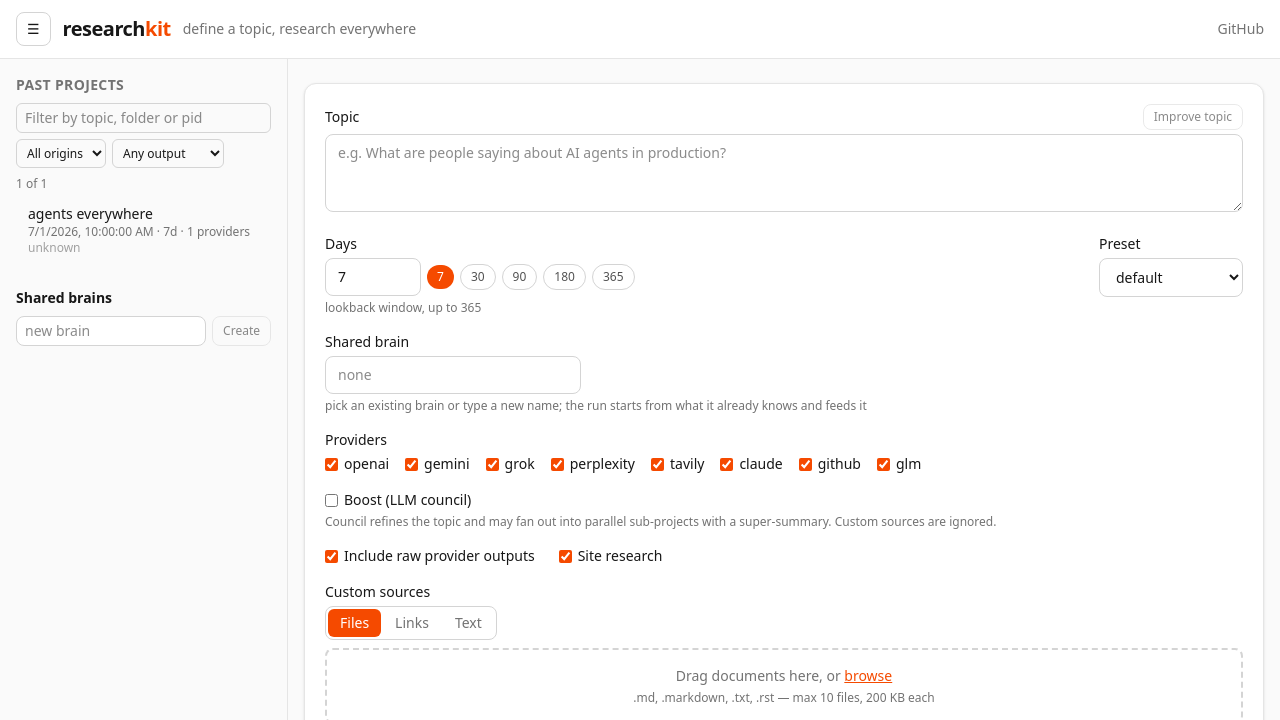
App › opens a project and renders tab content fetched per tab
The width and height of the screenshot is (1280, 720).
Click the text "agents everywhere". click: (90, 214)
box: [28,204,153,223]
(page scrolled)
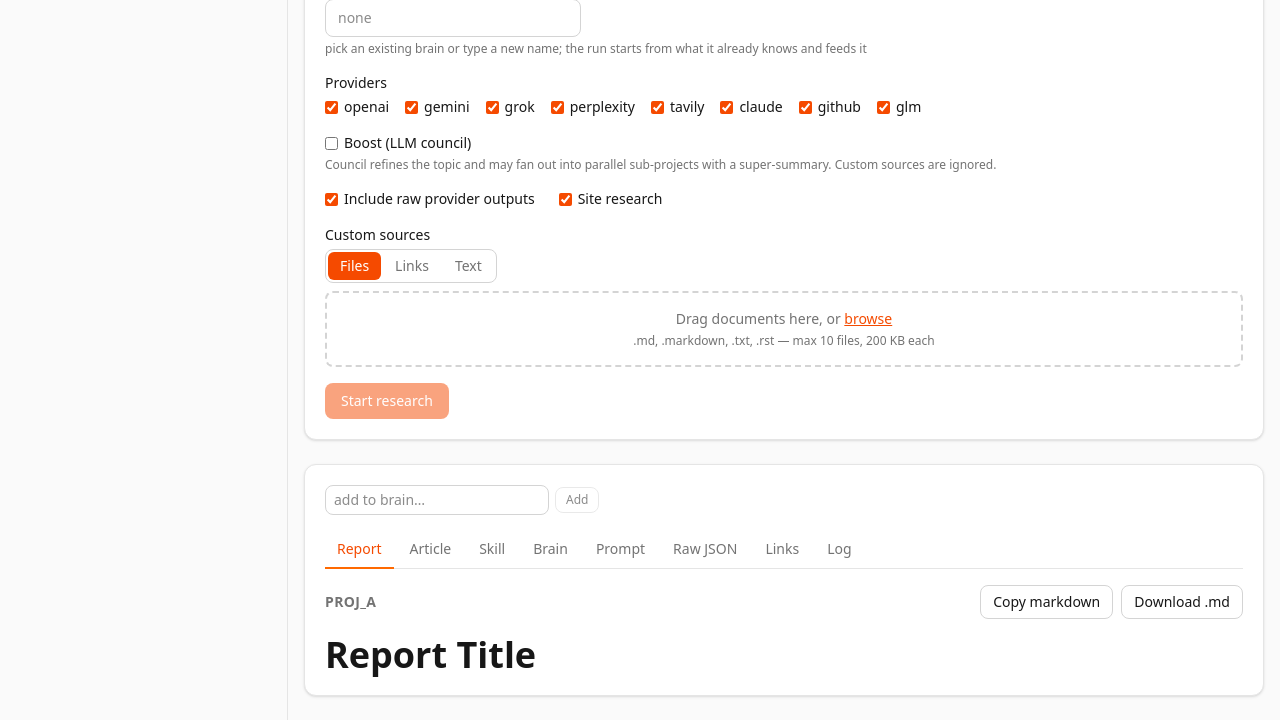
Now the heading "Report Title" is shown, box [325,630,536,679]
Click the tab "Prompt". click: (620, 550)
box: [584,531,657,569]
(page scrolled)
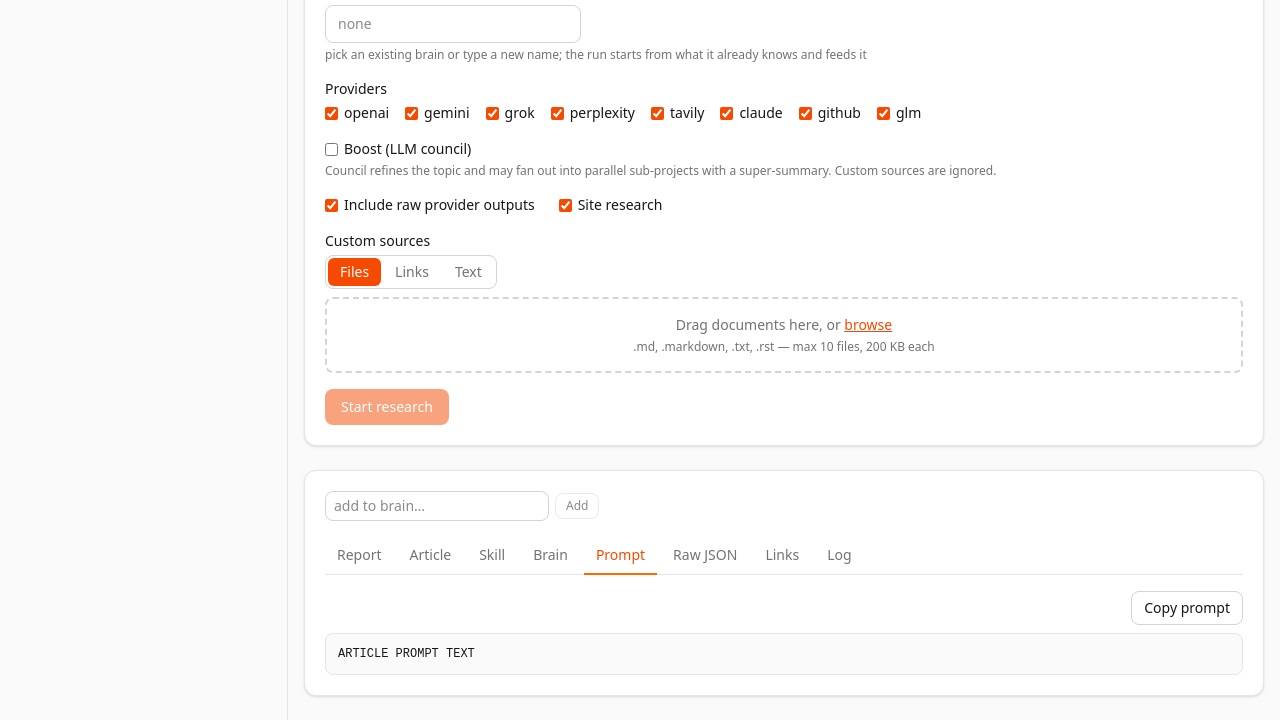
Now the text "ARTICLE PROMPT TEXT" is shown, box [325,633,1243,675]
